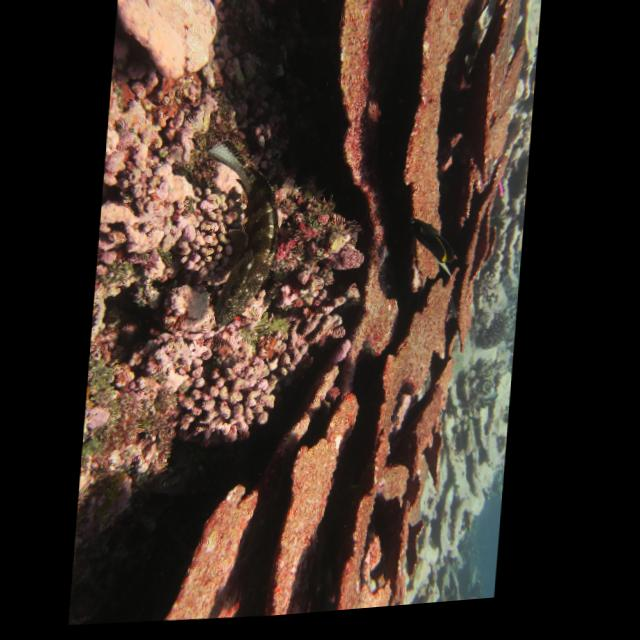Groupers: (193, 129, 288, 327)
